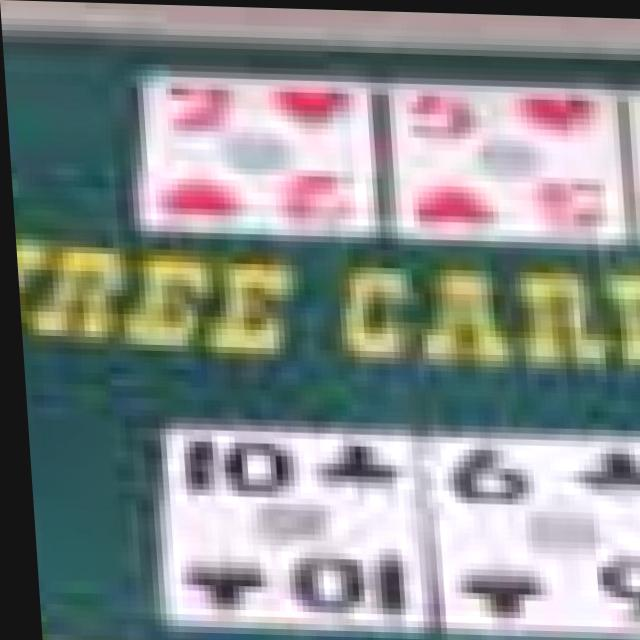Card-10: (159, 426, 419, 629)
Card-2: (142, 73, 375, 238)
Card-5: (387, 80, 625, 244)
Card-6: (432, 435, 640, 635)
